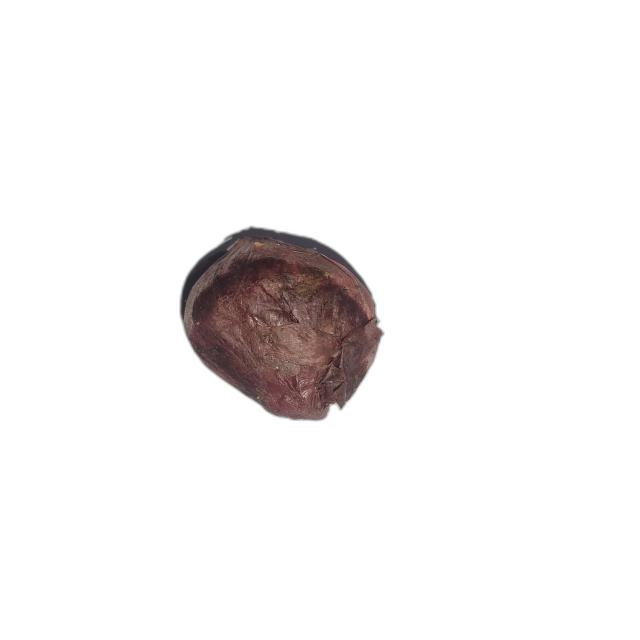onion: (182, 235, 385, 422)
